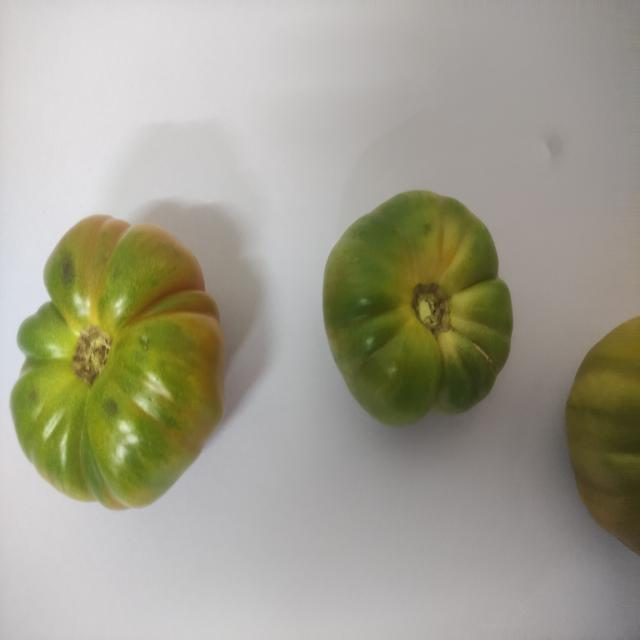unripe tomato: (2, 208, 250, 518), (317, 170, 519, 457), (560, 307, 640, 551)
